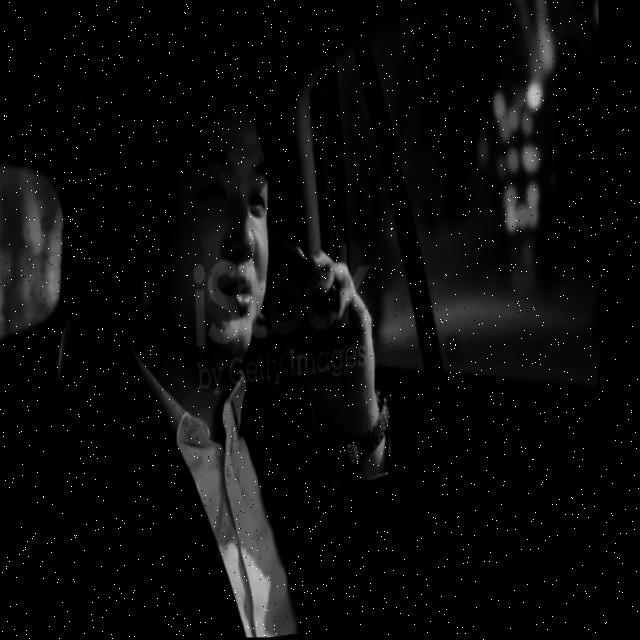PhoneCall: (256, 222, 361, 382)
